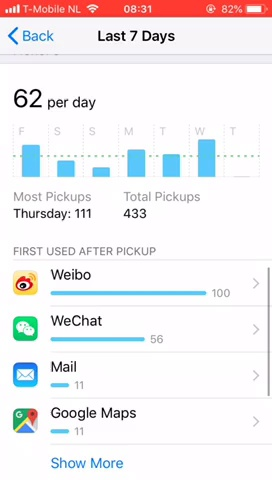pick_app: (10, 265, 242, 304), (11, 312, 175, 348), (7, 404, 156, 443), (7, 358, 119, 396)
pick_over: (8, 188, 215, 226)
week: (92, 26, 180, 46)
